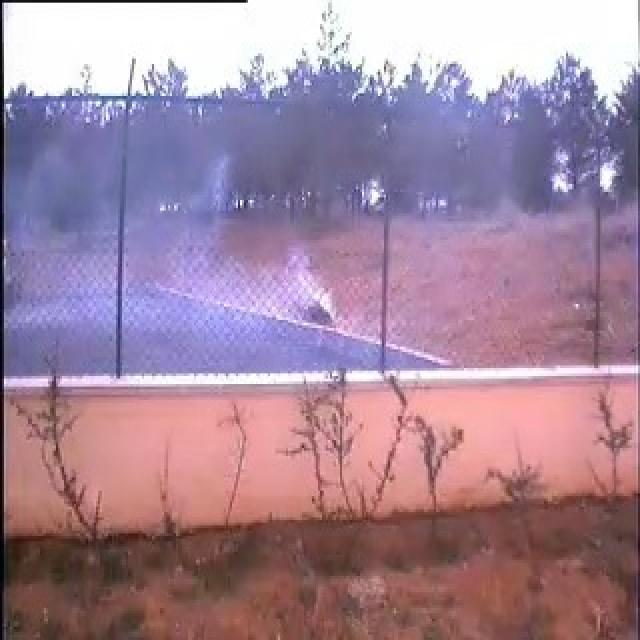smoke: (122, 95, 384, 377)
